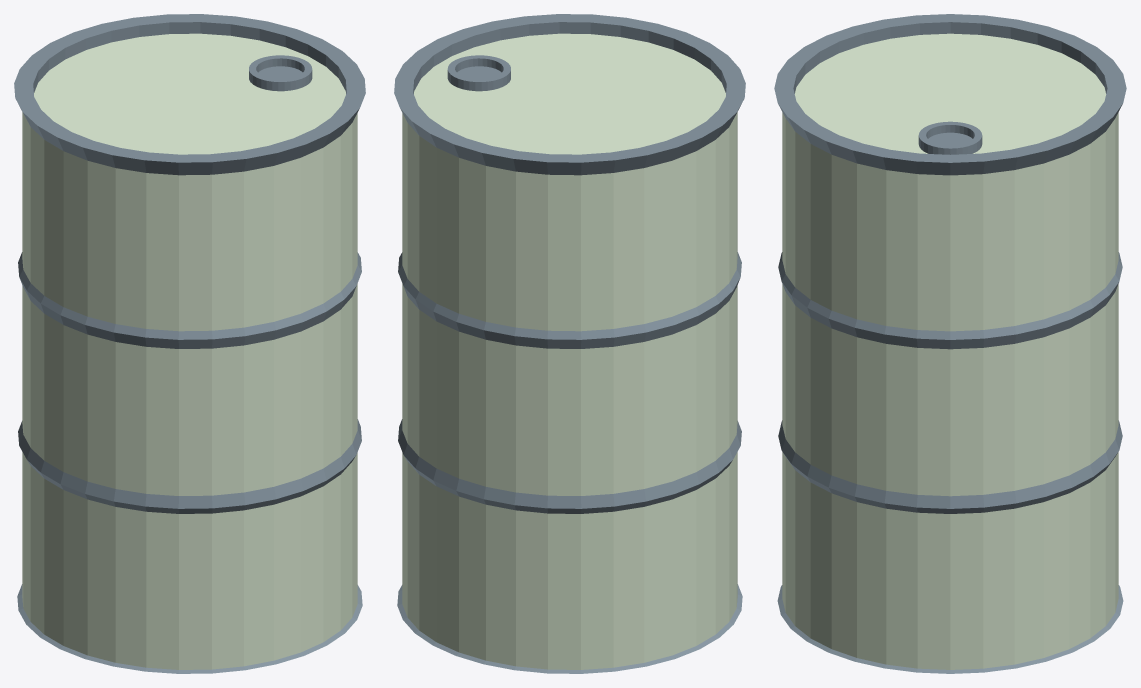
File: oilrBarrel[-].fbx
3 views of the same model, side by side, from view 1: azimuth 30°, elevation 25°; view 2: azimuth 150°, elevation 25°; view 3: azimuth 270°, elevation 25° (orthographic).
Visible parts, largest first — view 1: Oil Barrel; view 2: Oil Barrel; view 3: Oil Barrel.
Part boxes in pixels (box(x1,y1,x2,y2)): Oil Barrel: box(14, 14, 365, 673); Oil Barrel: box(394, 14, 745, 673); Oil Barrel: box(774, 14, 1126, 673).
Bounding box in the file's own units: 210 × 210 × 336.
